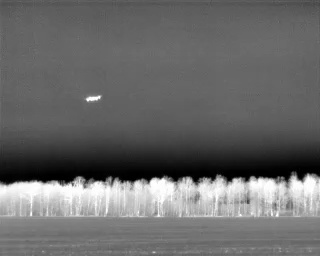DRONE: (83, 90, 105, 106)
